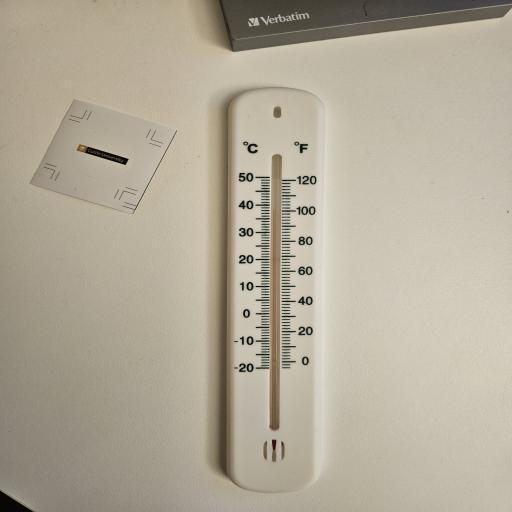thermometer: (227, 87, 326, 493)
